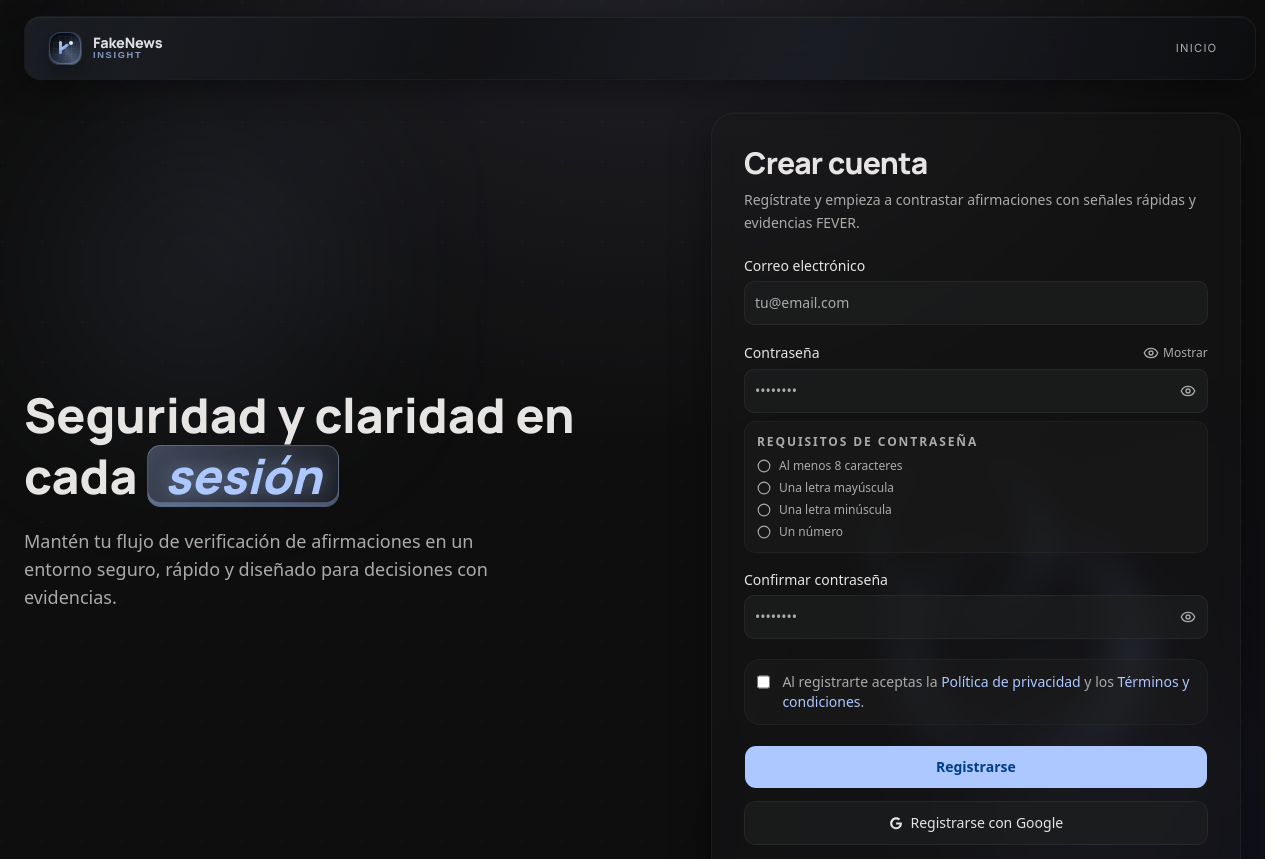
Test case: <Register /> › bloquea el submit cuando la confirmacion no coincide
Type "nuevo@test.com" into the field labelled "Correo electrónico".
click(976, 302); type("nuevo@test.com")  # box [744, 280, 1208, 324]
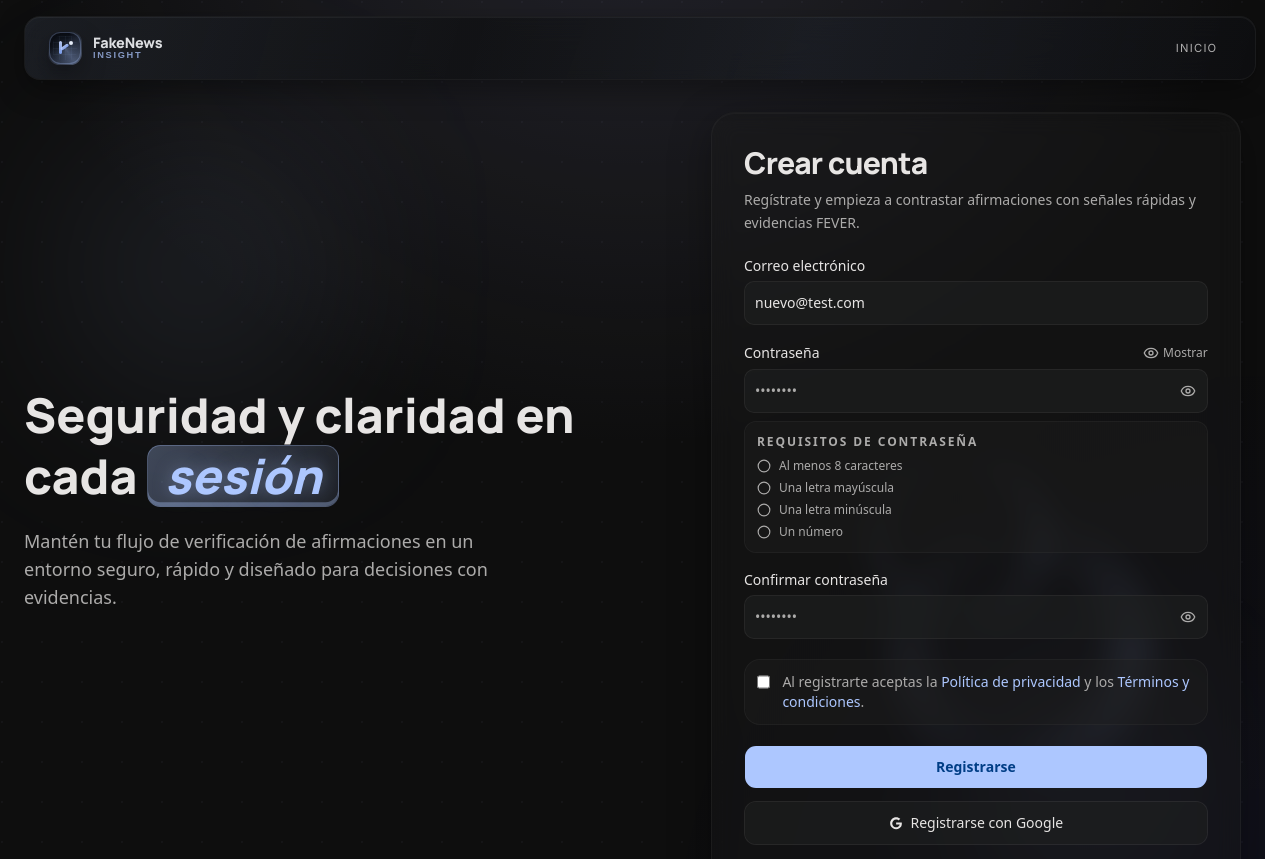
Type "Password123" into the password field labelled "Contraseña".
click(976, 390); type("Password123")  # box [744, 368, 1208, 412]
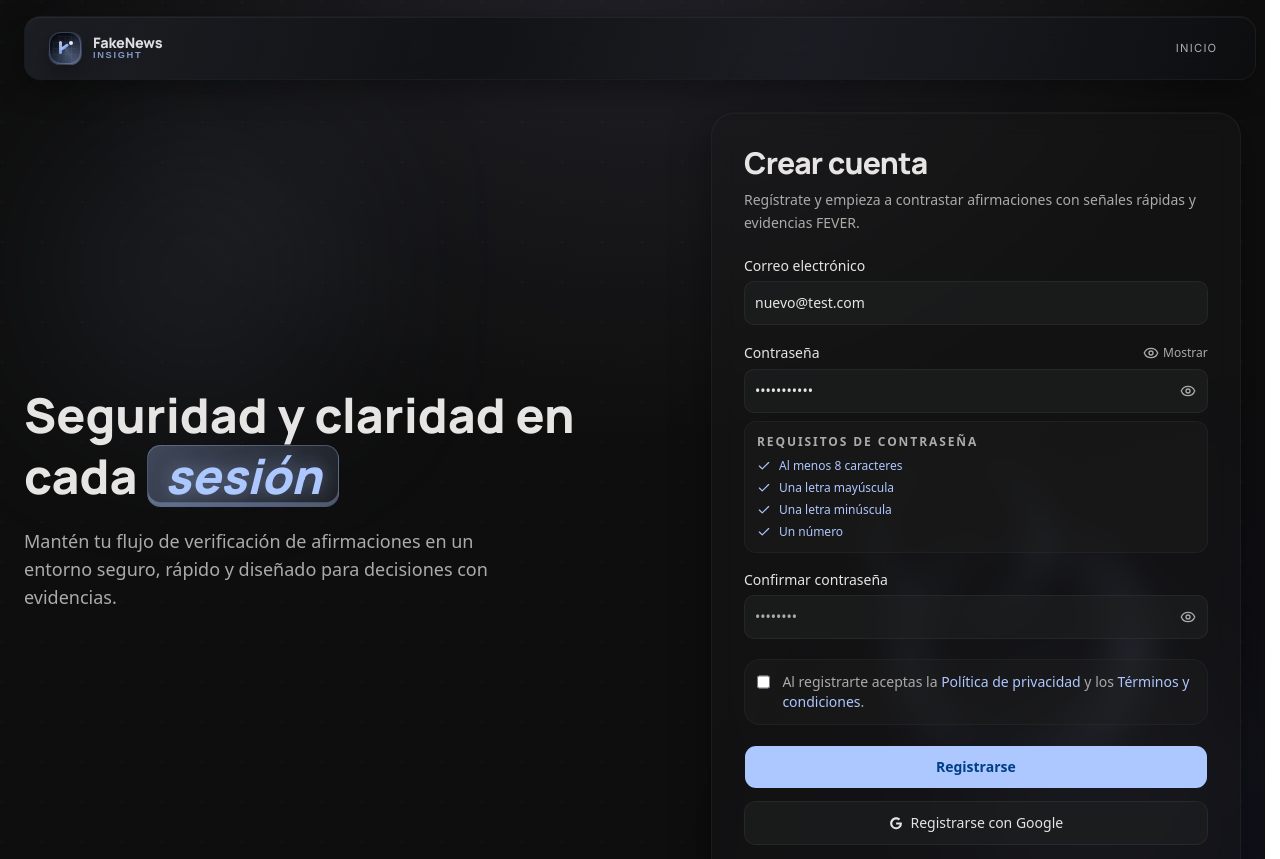
Type "Password456" into the password field labelled "Confirmar contraseña".
click(976, 616); type("Password456")  # box [744, 594, 1208, 638]
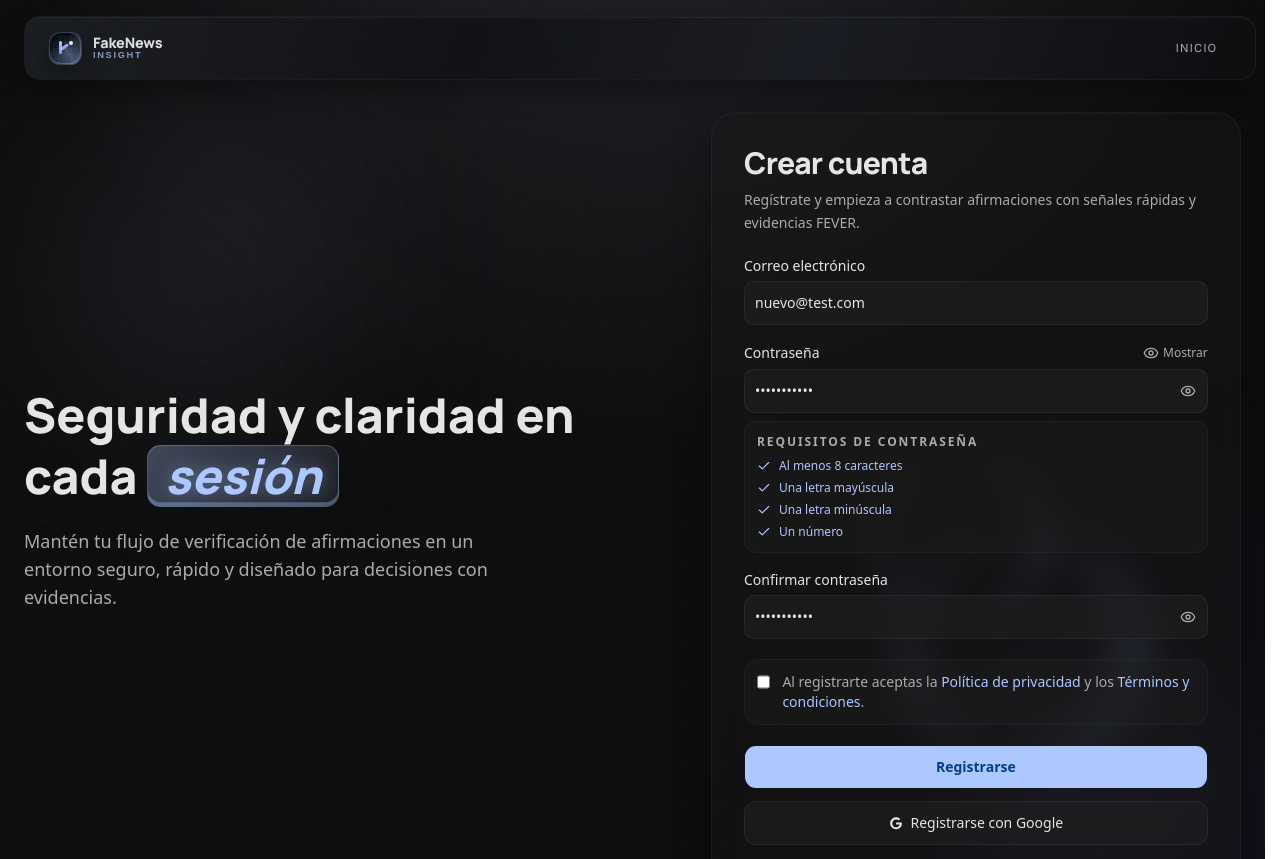
Click the checkbox.
click(764, 682)  # box [757, 674, 771, 690]
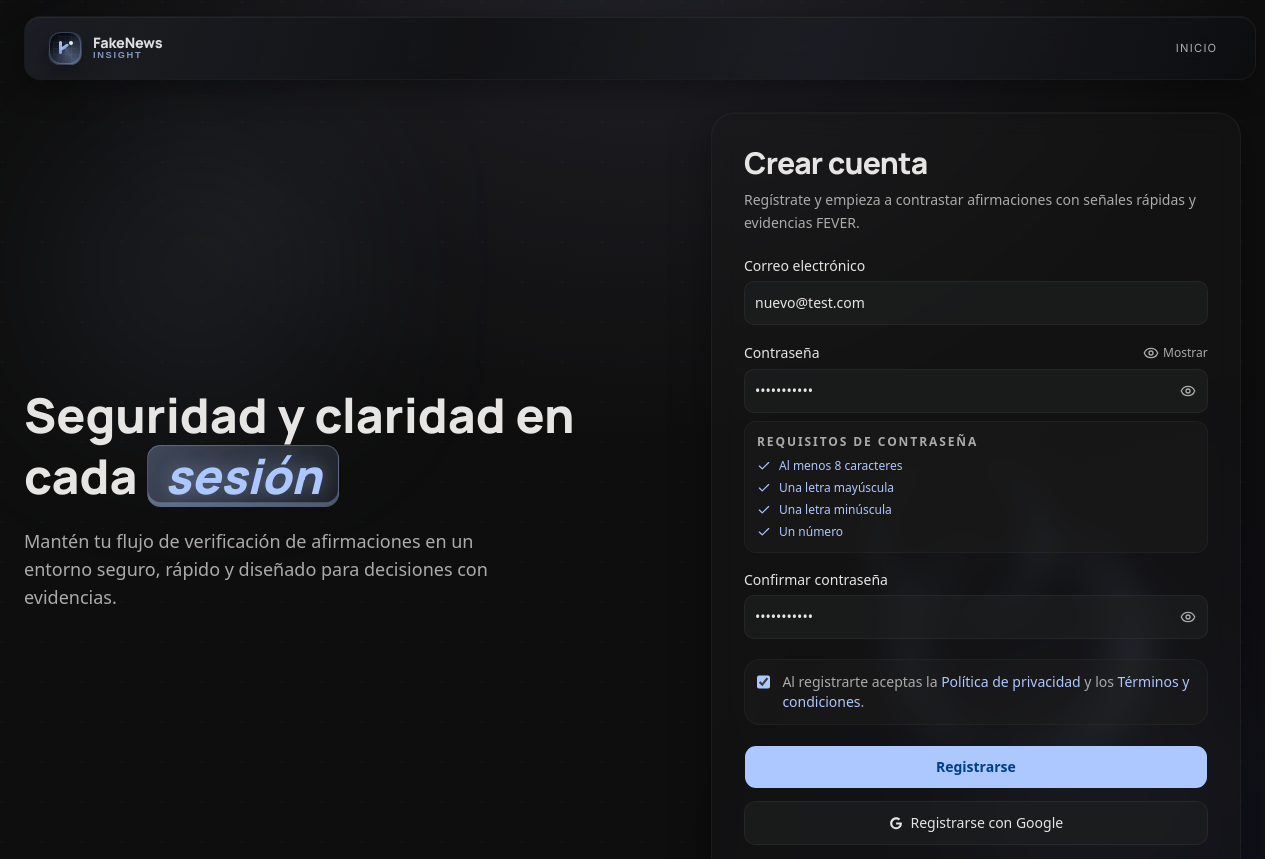
Click the button "Registrarse".
click(976, 766)  # box [744, 744, 1208, 788]
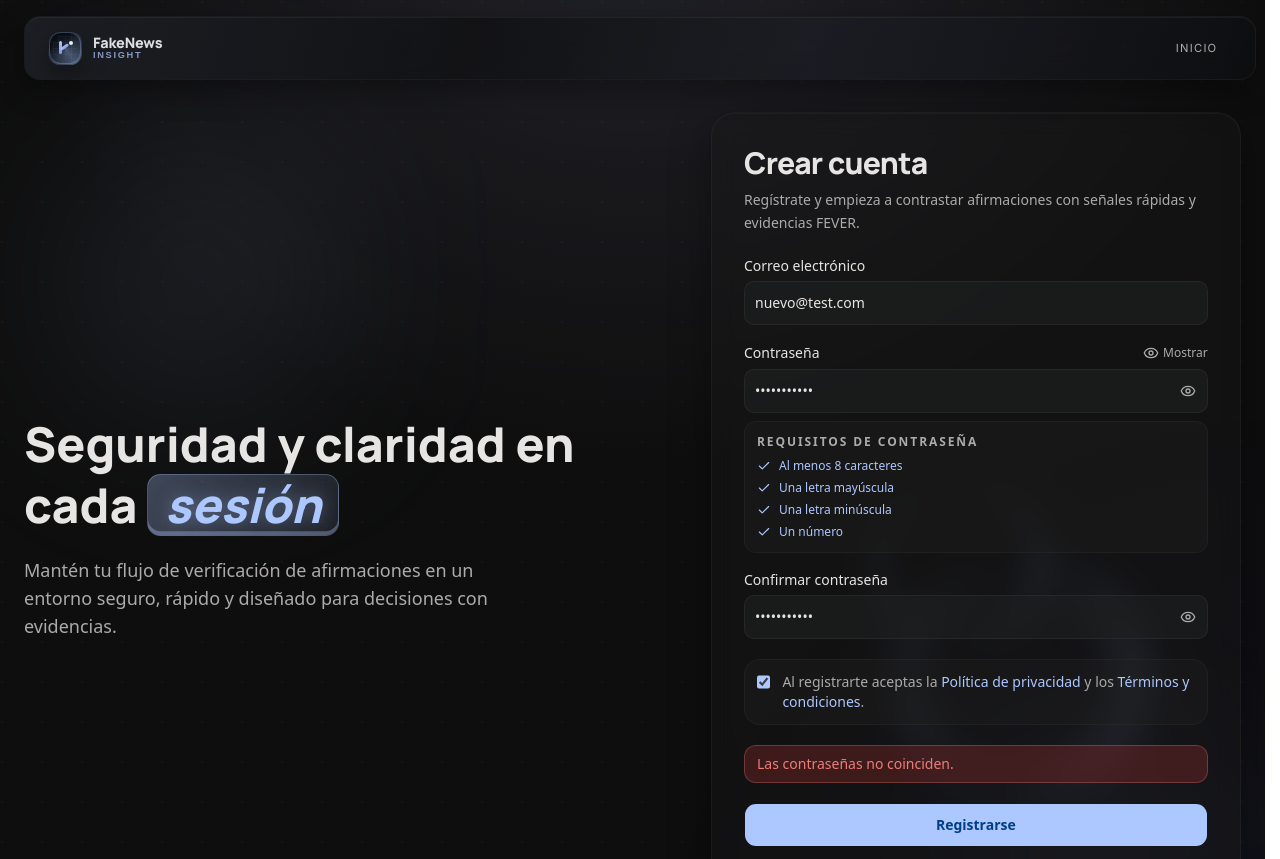
expect the message shows "no coinciden": met, box [757, 754, 954, 772]
